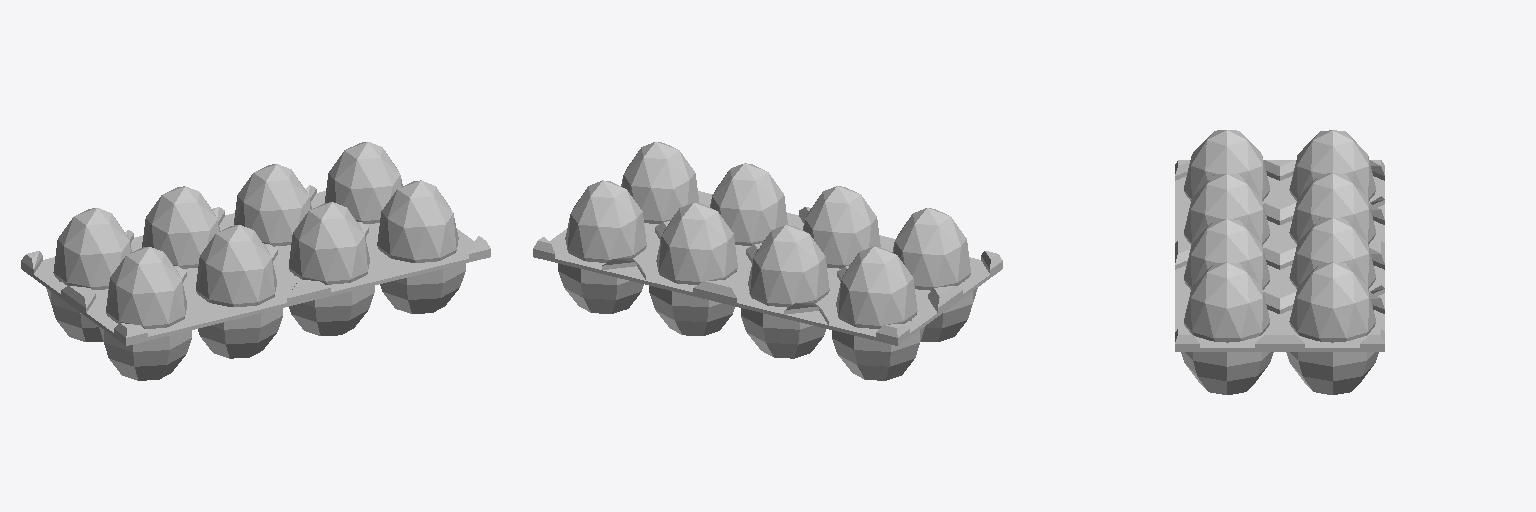
File: egg-carton.obj
The picture shows the model from 3 angles: view 1: azimuth 30°, elevation 25°; view 2: azimuth 150°, elevation 25°; view 3: azimuth 270°, elevation 25°; orthographic projection.
Parts seen in each view (by area): view 1: Cube.001; view 2: Cube.001; view 3: Cube.001.
Part boxes in pixels (x1,y1,x2,y2): Cube.001: (21,142,490,380); Cube.001: (533,142,1002,380); Cube.001: (1175,130,1384,394).
Bounding box in the file's own units: 0.5361 × 0.1721 × 0.268.